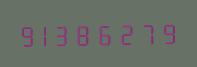eight: (77, 20, 96, 47)
nine: (17, 21, 36, 48), (157, 18, 176, 45)
one: (37, 21, 56, 47)
seven: (137, 19, 156, 45)
six: (97, 20, 116, 46)
three: (57, 20, 76, 47)
two: (117, 19, 136, 46)
